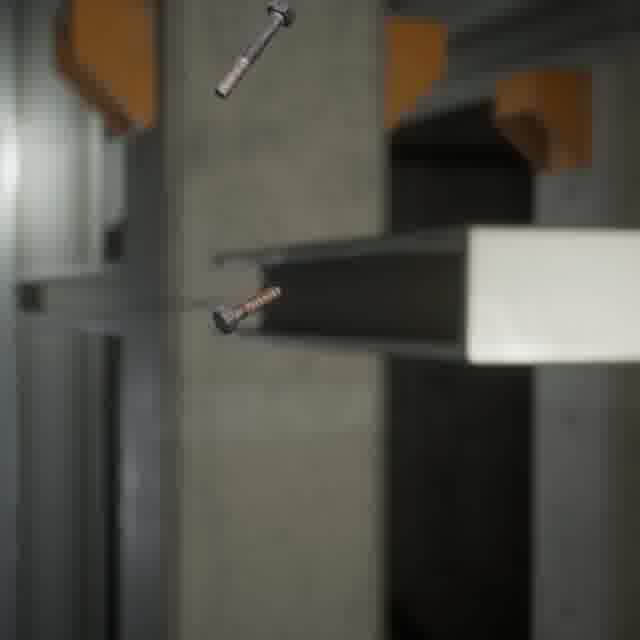bolt: (209, 0, 300, 103), (208, 282, 285, 338)
